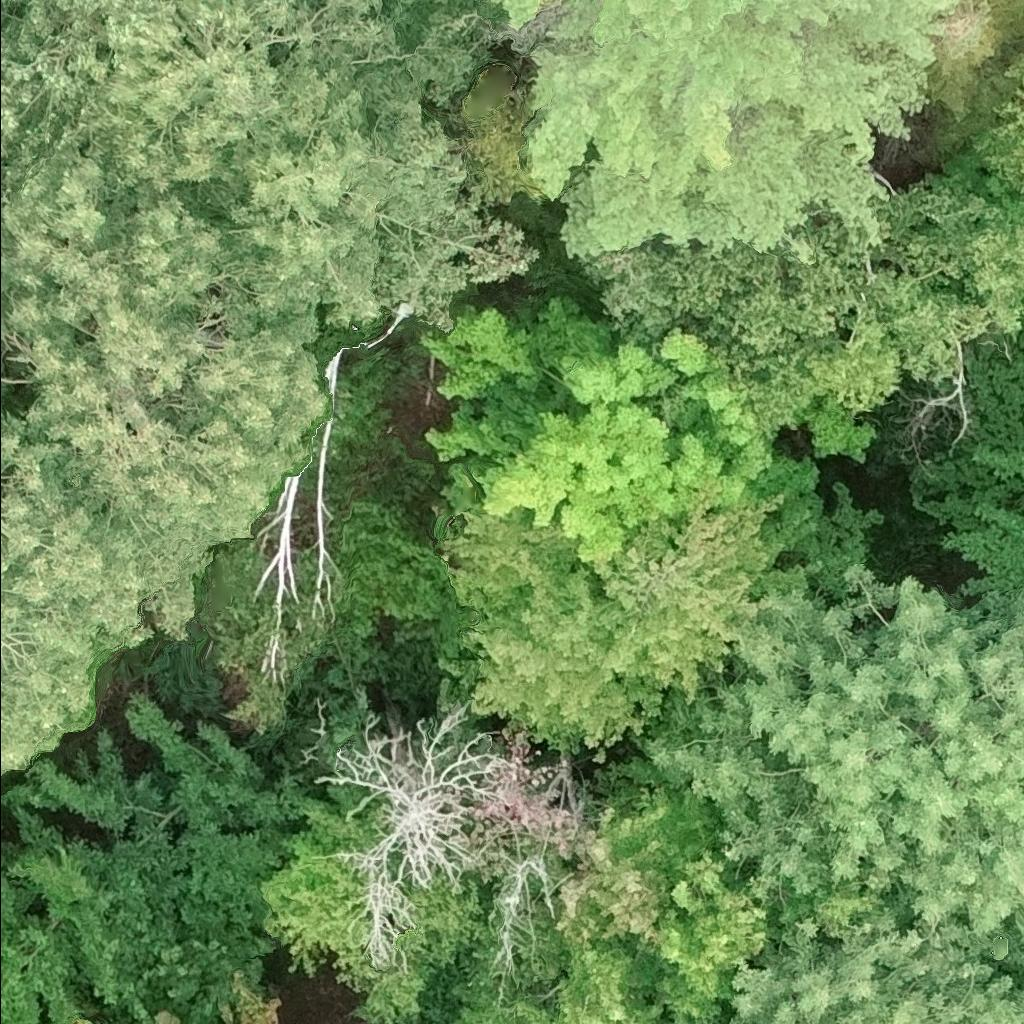crown: (0, 0, 549, 333), (0, 126, 331, 653), (627, 557, 1023, 966), (488, 0, 971, 273), (576, 162, 1023, 439), (439, 479, 832, 766), (418, 288, 776, 560), (313, 698, 507, 972), (717, 909, 1023, 1023), (553, 781, 719, 954), (639, 850, 768, 1023), (0, 589, 103, 780), (451, 935, 666, 1023), (922, 0, 1023, 159), (941, 42, 1023, 195), (230, 977, 280, 1023), (154, 1011, 188, 1023), (0, 314, 9, 346), (71, 1015, 97, 1023)
